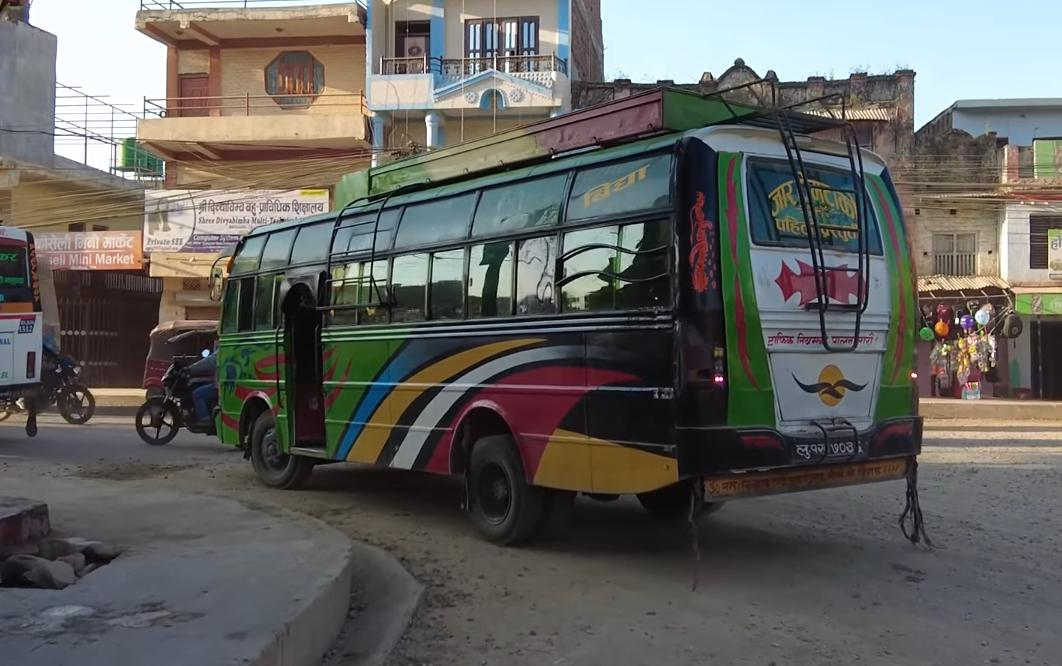bus: (202, 82, 940, 535)
